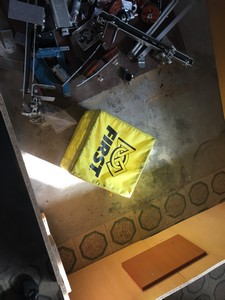cube: (59, 111, 157, 200)
